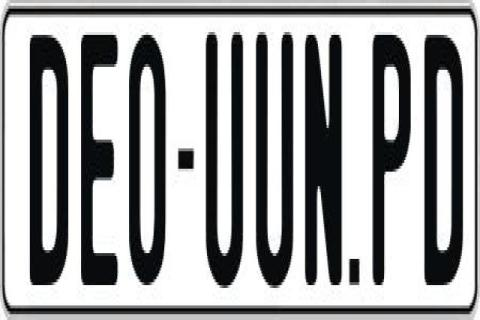0: (126, 27, 167, 280)
D: (27, 32, 70, 282), (422, 32, 462, 294)
E: (78, 29, 116, 297)
N: (304, 35, 341, 297)
P: (371, 35, 414, 291)
U: (206, 23, 249, 291), (253, 32, 291, 288)
